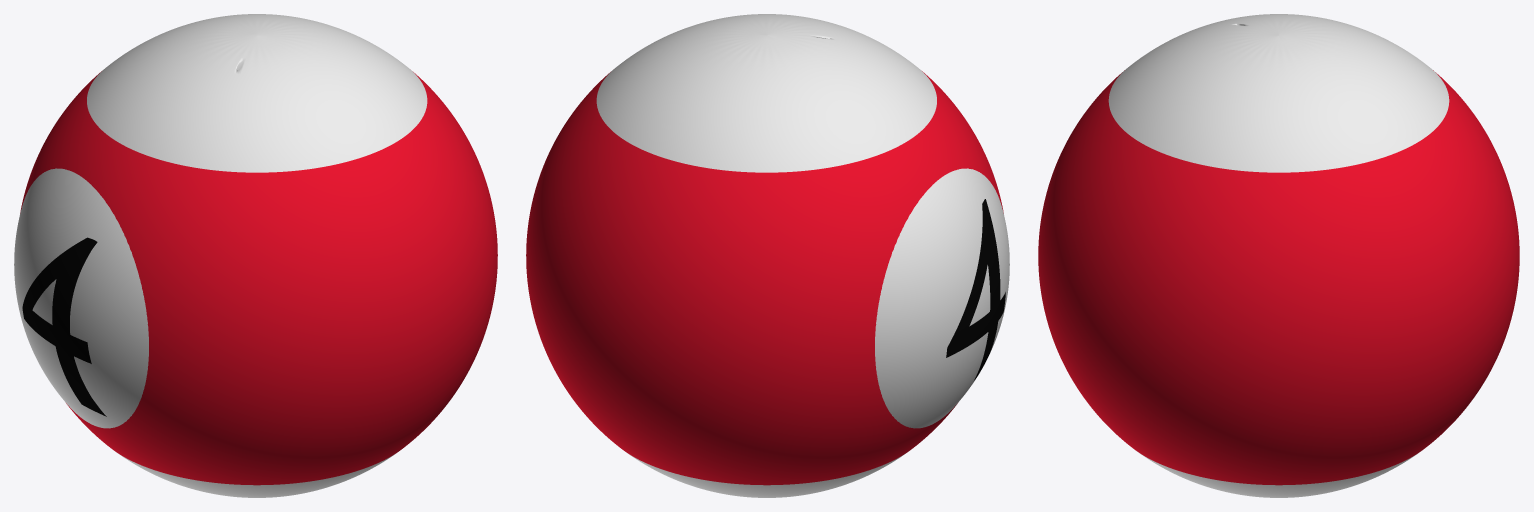
File: 8pool2.glb
3 renders of one model, left to right at view 1: azimuth 30°, elevation 25°; view 2: azimuth 150°, elevation 25°; view 3: azimuth 270°, elevation 25°, orthographic.
Parts seen in each view (by area): view 1: Sphere, Sphere.001; view 2: Sphere, Sphere.001; view 3: Sphere.
Part boxes in pixels (x1,y1,x2,y2): Sphere: (20, 14, 497, 497); Sphere.001: (14, 168, 148, 428); Sphere: (526, 14, 1003, 497); Sphere.001: (875, 168, 1009, 428); Sphere: (1038, 14, 1519, 497).
Size of the model in its own units: 2 by 2 by 1.97.
